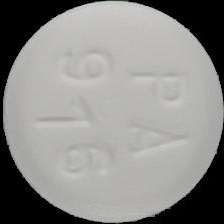50111-916: (0, 0, 224, 224)
